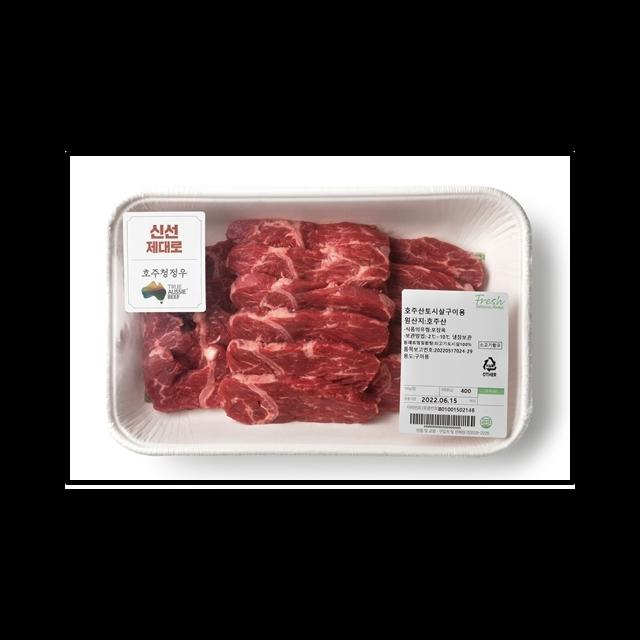beef: (115, 203, 513, 447)
